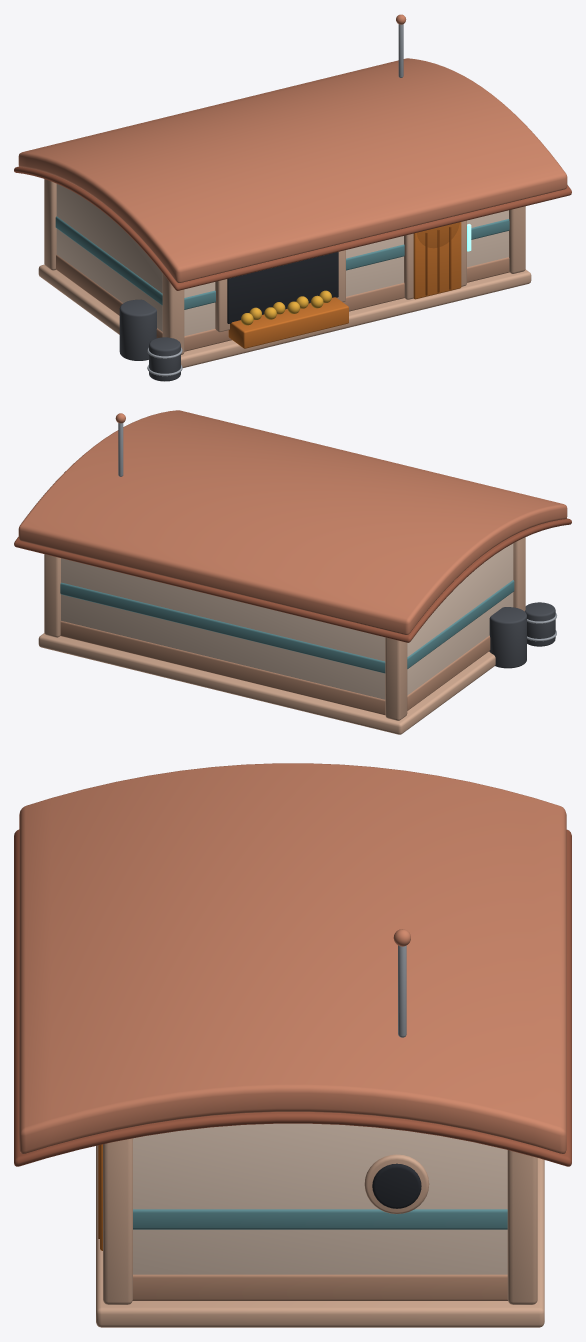
File: media.glb
The picture shows the model from 3 angles, top to bottom: view 1: azimuth 30°, elevation 25°; view 2: azimuth 150°, elevation 25°; view 3: azimuth 270°, elevation 25°; orthographic projection. The views are drawn at different scales.
Visible parts, largest first — view 1: Cube.008, Cube.001, Cube, Cube.009, Cube.011, Cube.002, Cube.013, Cube.003, Cube.015, Cylinder.003, Cube.004, Cylinder.002 (+5 smaller); view 2: Cube.008, Cube.001, Cube, Cube.002, Cube.003, Cube.009, Cylinder.003, Cube.005, Cube.007, Cylinder.002, Cube.004; view 3: Cube.008, Cube.001, Cube, Cube.009, Cube.002, Cube.003, Cube.006, Cube.007, Cylinder.006, Cylinder.005, Cylinder.004.
Part boxes in pixels (x1=…): Cube.008: x1=18, y1=58, x2=567, y2=282; Cube.001: x1=56, y1=184, x2=508, y2=336; Cube: x1=38, y1=264, x2=531, y2=367; Cube.009: x1=14, y1=166, x2=571, y2=290; Cube.011: x1=227, y1=252, x2=338, y2=323; Cube.002: x1=56, y1=254, x2=509, y2=351; Cube.013: x1=228, y1=297, x2=348, y2=348; Cube.003: x1=55, y1=216, x2=509, y2=309; Cube.015: x1=413, y1=222, x2=461, y2=299; Cylinder.003: x1=119, y1=299, x2=156, y2=360; Cube.004: x1=162, y1=273, x2=184, y2=354; Cylinder.002: x1=149, y1=337, x2=180, y2=381; Cube.008: x1=18, y1=410, x2=567, y2=634; Cube.001: x1=61, y1=543, x2=513, y2=699; Cube: x1=38, y1=633, x2=495, y2=734; Cube.002: x1=60, y1=621, x2=490, y2=715; Cube.003: x1=60, y1=580, x2=514, y2=673; Cube.009: x1=14, y1=518, x2=571, y2=642; Cylinder.003: x1=489, y1=607, x2=526, y2=668; Cube.005: x1=385, y1=637, x2=407, y2=720; Cube.007: x1=44, y1=554, x2=60, y2=637; Cylinder.002: x1=525, y1=602, x2=555, y2=646; Cube.004: x1=513, y1=537, x2=525, y2=611; Cube.008: x1=19, y1=763, x2=566, y2=1153; Cube.001: x1=133, y1=1123, x2=507, y2=1274; Cube: x1=96, y1=1145, x2=544, y2=1327; Cube.009: x1=14, y1=829, x2=571, y2=1166; Cube.002: x1=132, y1=1274, x2=507, y2=1300; Cube.003: x1=133, y1=1209, x2=507, y2=1229; Cube.006: x1=103, y1=1138, x2=132, y2=1304; Cube.007: x1=507, y1=1150, x2=537, y2=1304; Cylinder.006: x1=372, y1=1163, x2=421, y2=1208; Cylinder.005: x1=364, y1=1154, x2=429, y2=1214; Cylinder.004: x1=398, y1=945, x2=406, y2=1037.
Bounding box in the file's own units: 14.45 × 7.36 × 10.2.
